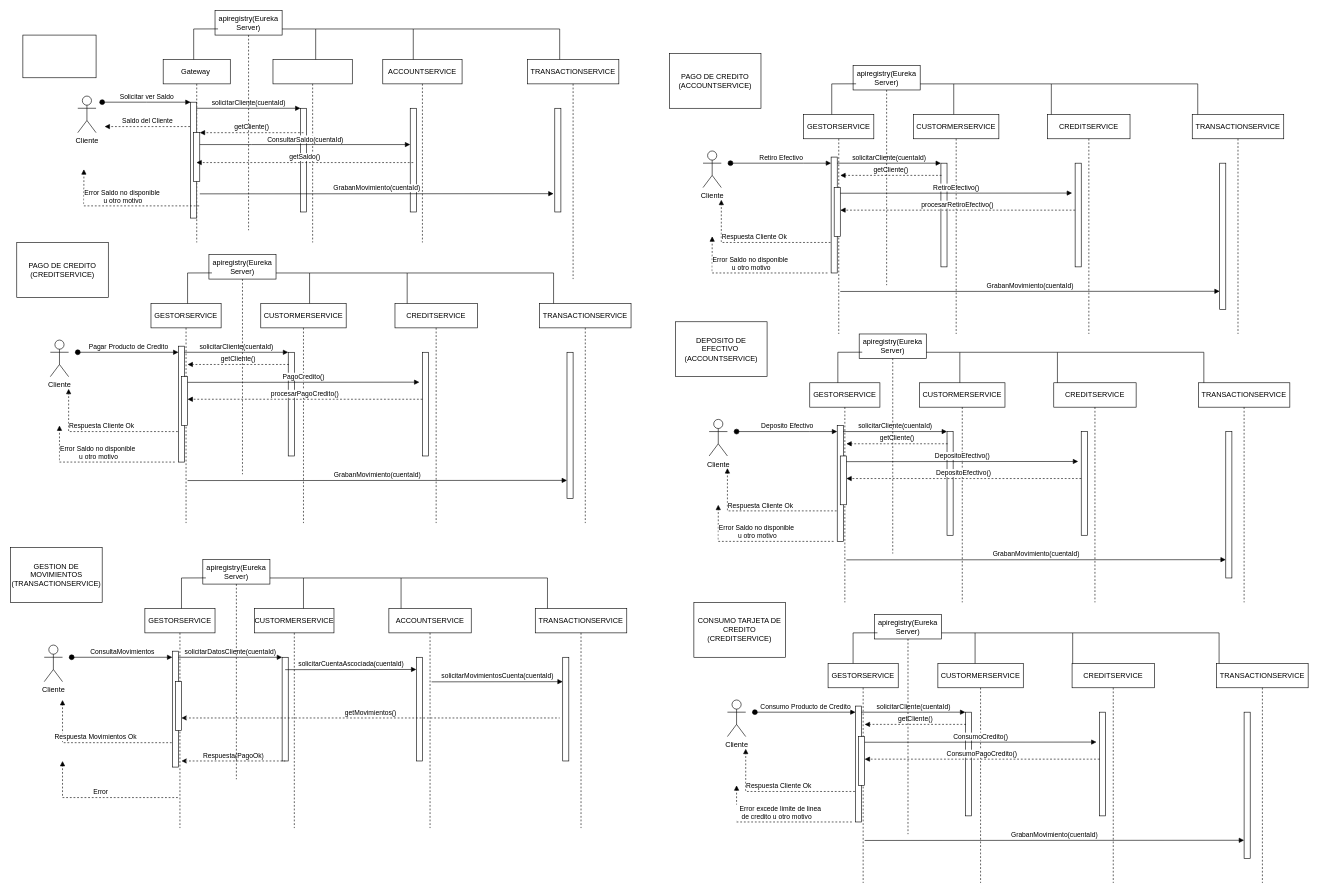
Some shapes in this 1319 by 894 pixel diagram are drawn without their labels. Here are the shapes that lost their labels. From the top down, the centre of each, then its label:
the point at 59,56: GESTION DE CUENTAS BANCARIAS (ACCOUNTSERVICE)
the point at 312,150: CUSTOMERSERVICE
